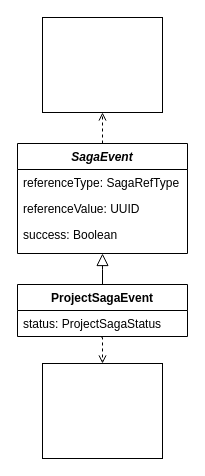
The diagram is 205 pixels wide and 476 high, and some of its shapes have lost their labels. The shapes that lost their labels are listed below. From the top down, each one's centre as x and y in pixels, then its label:
the point at 102,64: <<Enumeration>> SagaRefType PROJECT ISSUE USER
the point at 102,410: <<Enumeration>> ProjectSagaStatus BEGIN ISSUES_DELETED COMPLETE
